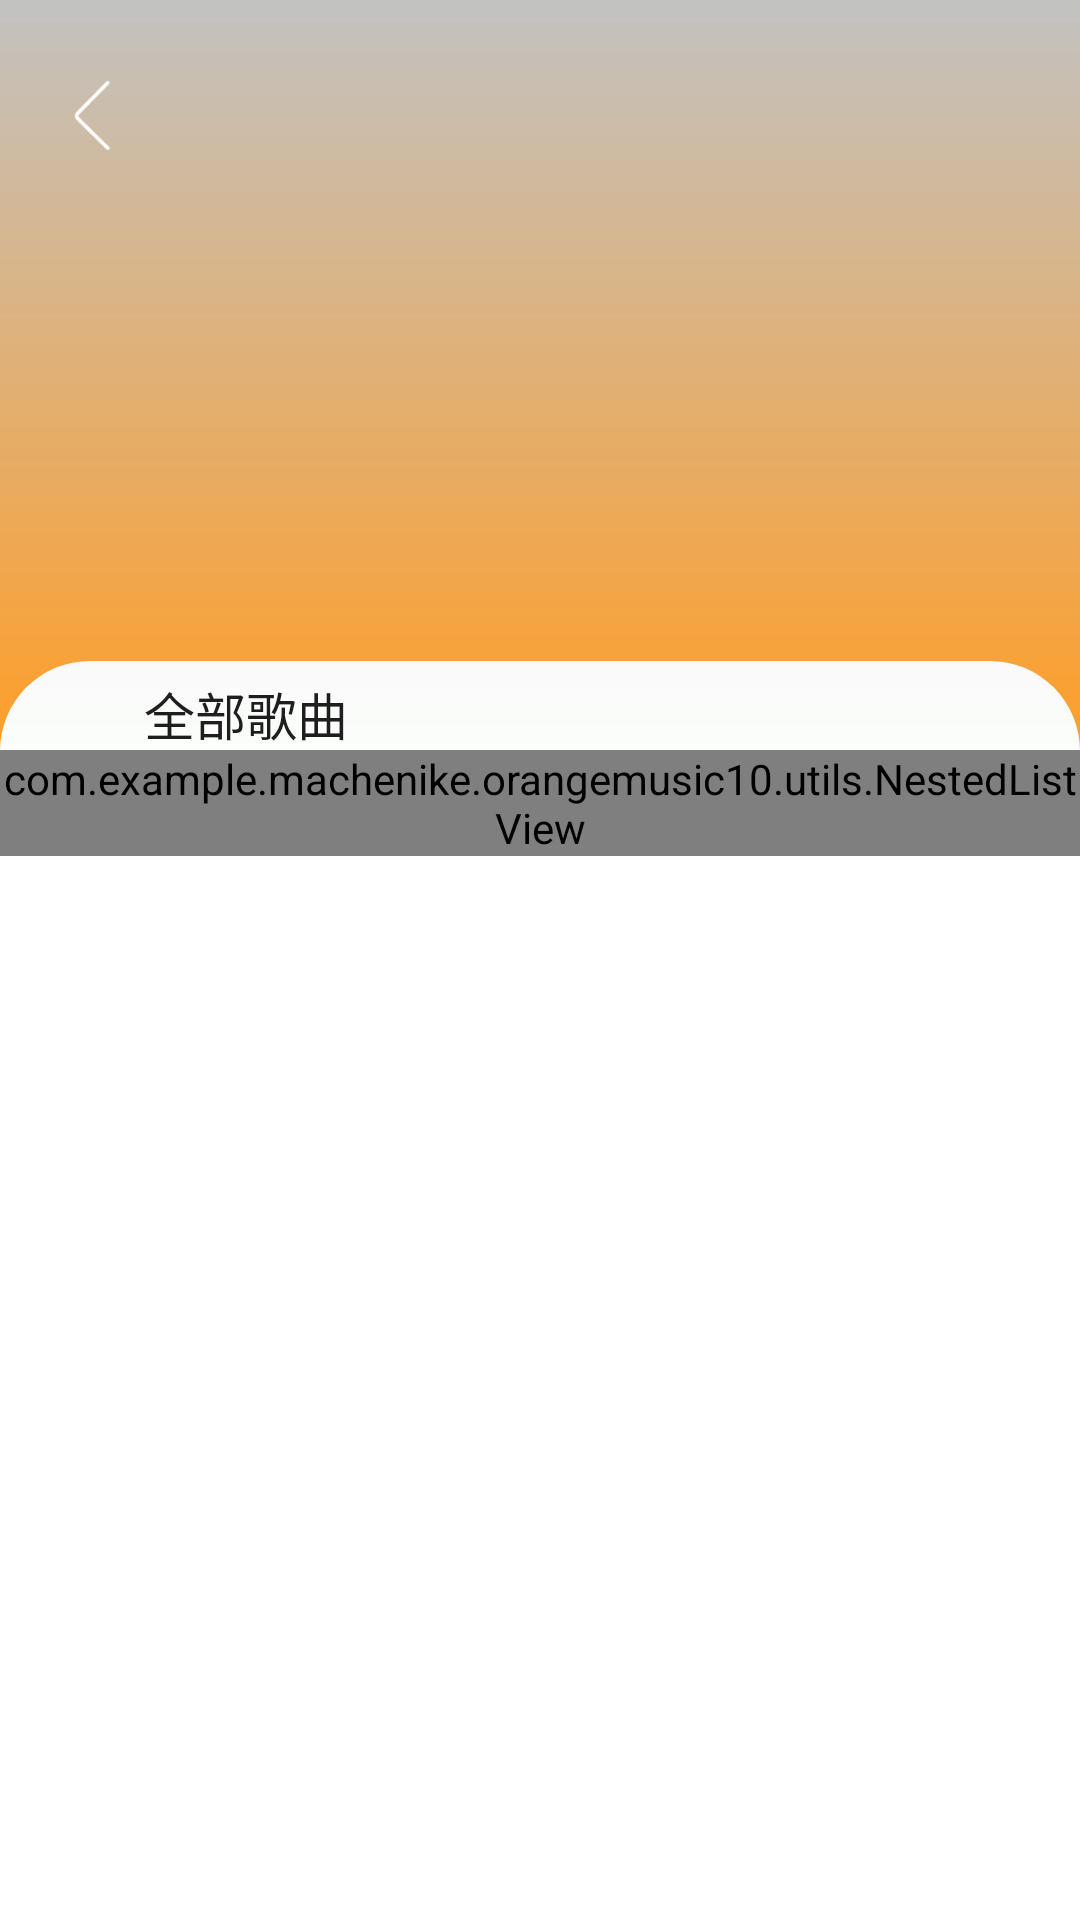

Named icons in this screenshot (1080 × 1920) and their centers, [x,y]:
back: [92,115]
